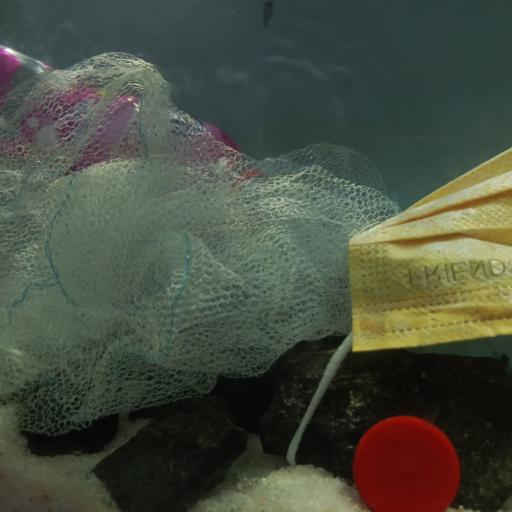bottle_cap: (352, 416, 460, 512)
mask: (306, 143, 512, 418)
net: (3, 52, 413, 436)
plastic_bottle: (0, 45, 277, 202)
